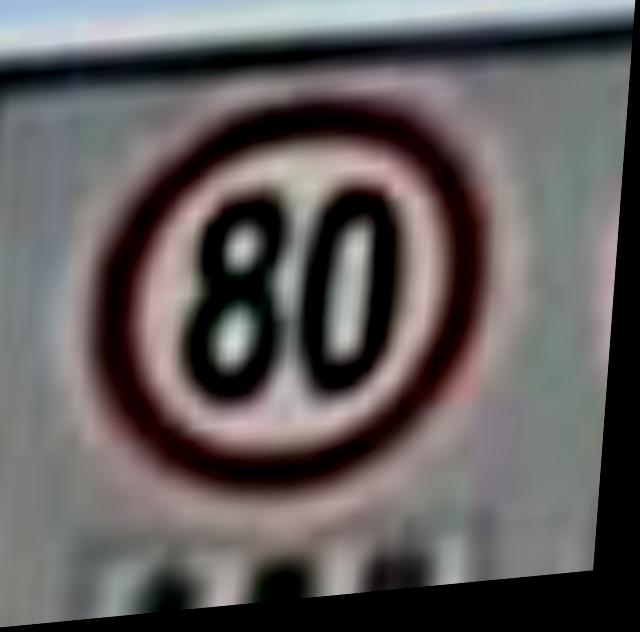limit80: (86, 77, 502, 523)
